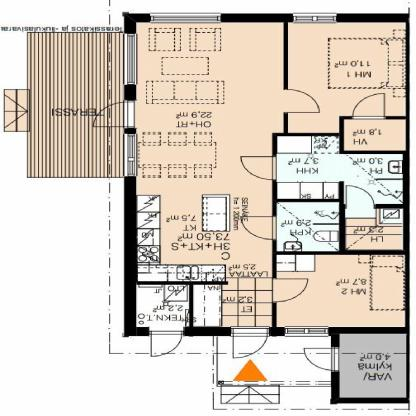door: (232, 327, 268, 361), (88, 104, 136, 127), (272, 278, 312, 304), (241, 155, 279, 182), (284, 89, 322, 116), (148, 330, 182, 358), (350, 92, 384, 120), (240, 216, 276, 240), (300, 348, 338, 370), (345, 184, 375, 208)
window: (150, 12, 221, 24), (122, 33, 138, 86), (121, 134, 138, 177), (294, 12, 338, 23), (284, 327, 331, 337)
zone: (140, 21, 272, 282), (273, 137, 398, 248), (29, 33, 124, 177), (287, 22, 404, 133), (278, 256, 402, 327), (216, 335, 328, 387), (339, 336, 406, 396), (191, 284, 270, 327), (136, 285, 190, 328), (344, 122, 404, 148)
